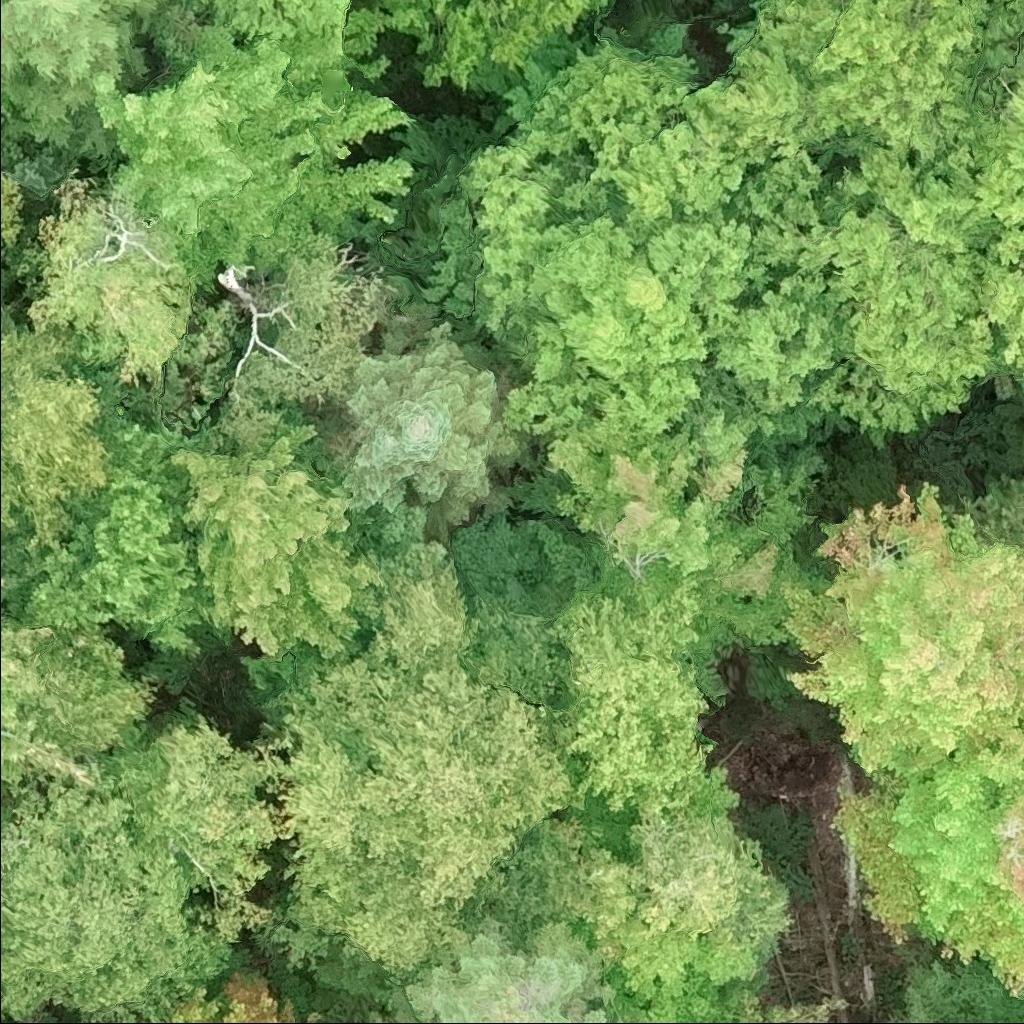crown: (418, 17, 855, 452), (665, 0, 1023, 437), (261, 536, 580, 983), (0, 701, 292, 1023), (93, 23, 417, 284), (464, 535, 745, 819), (778, 478, 1023, 780), (539, 407, 833, 644), (169, 418, 394, 665), (0, 415, 211, 655), (324, 321, 519, 550), (20, 169, 195, 389), (884, 730, 1023, 1001), (0, 0, 175, 165), (630, 791, 791, 970), (0, 312, 114, 544), (389, 916, 614, 1023), (379, 0, 612, 94), (0, 616, 99, 817), (593, 913, 759, 1023), (466, 817, 596, 948), (160, 963, 324, 1023), (182, 0, 353, 48), (885, 962, 980, 1023), (704, 987, 850, 1023), (991, 396, 1023, 481), (0, 165, 26, 251), (0, 572, 17, 600), (0, 295, 6, 312), (1021, 722, 1023, 727)
